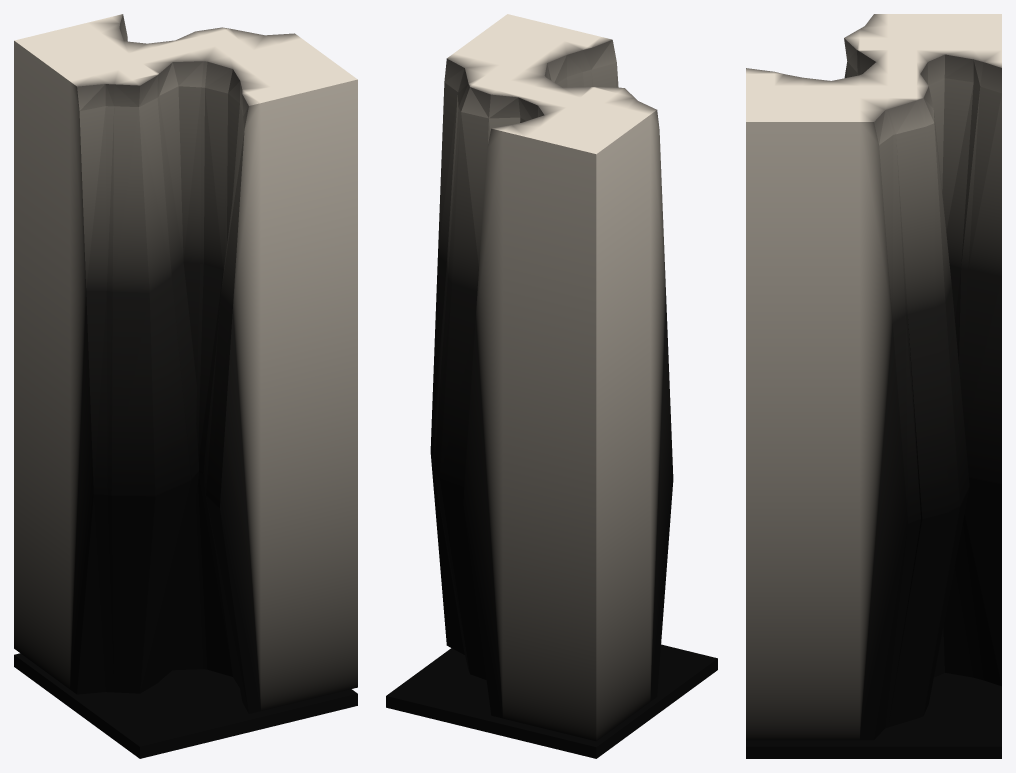
Rendered from SM_VKI_Ground_Cave_XOXO_Q00.fbx.
The picture shows the model from 3 angles, left to right: view 1: azimuth 30°, elevation 25°; view 2: azimuth 150°, elevation 25°; view 3: azimuth 270°, elevation 25°; orthographic projection. The views are drawn at different scales.
Visible parts, largest first — view 1: SM_VKI_Ground_Cave_XOXO_Q00.001; view 2: SM_VKI_Ground_Cave_XOXO_Q00.001; view 3: SM_VKI_Ground_Cave_XOXO_Q00.001.
Boxes of the visible parts, box(x1,y1,x2,y2) form: SM_VKI_Ground_Cave_XOXO_Q00.001: box(14, 14, 357, 758); SM_VKI_Ground_Cave_XOXO_Q00.001: box(386, 14, 717, 758); SM_VKI_Ground_Cave_XOXO_Q00.001: box(746, 14, 1001, 758).
Bounding box in the file's own units: 1.5 × 4.12 × 1.5.
